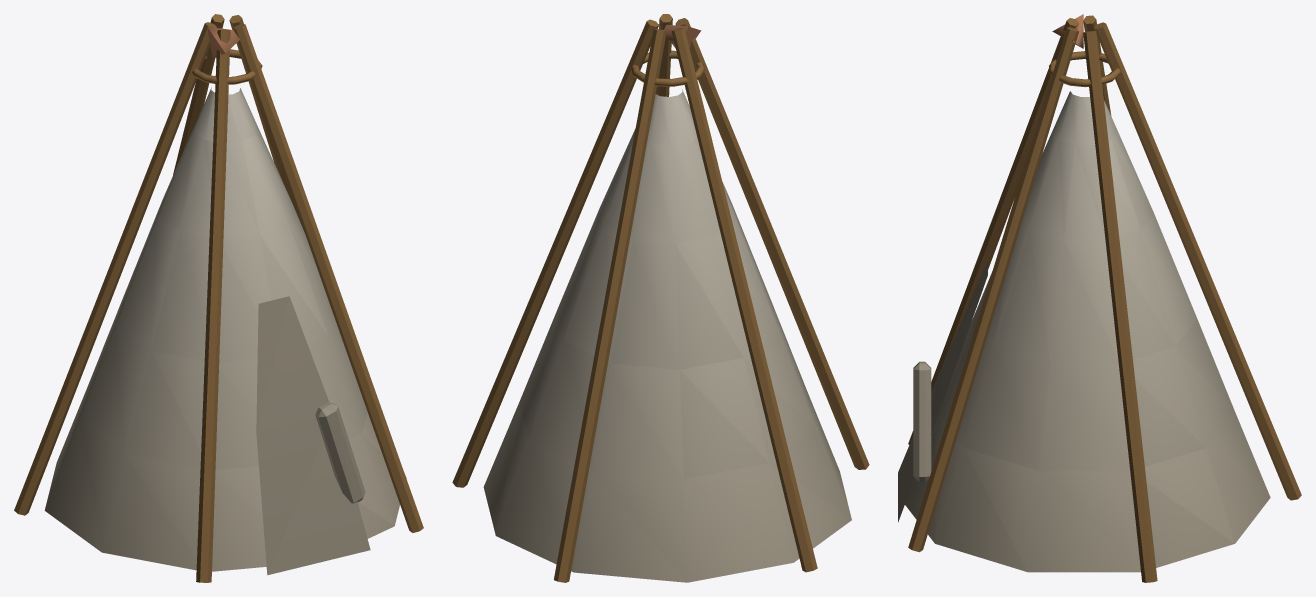
Rendered from play_teepee.glb.
The picture shows the model from 3 angles, left to right: view 1: azimuth 30°, elevation 25°; view 2: azimuth 150°, elevation 25°; view 3: azimuth 270°, elevation 25°; orthographic projection.
Parts seen in each view (by area): view 1: play_teepee; view 2: play_teepee; view 3: play_teepee.
Boxes of the visible parts, box(x1,y1,x2,y2) form: play_teepee: box(14, 14, 423, 582); play_teepee: box(452, 14, 869, 582); play_teepee: box(898, 14, 1301, 582).
Bounding box in the file's own units: 1.37 × 1.75 × 1.35.
